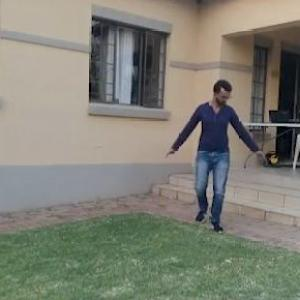land: (162, 79, 258, 239)
